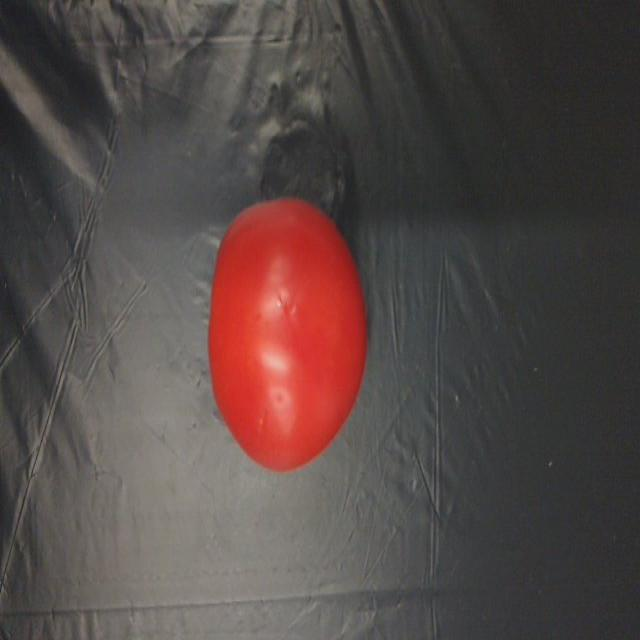kirmizi: (187, 170, 367, 474)
